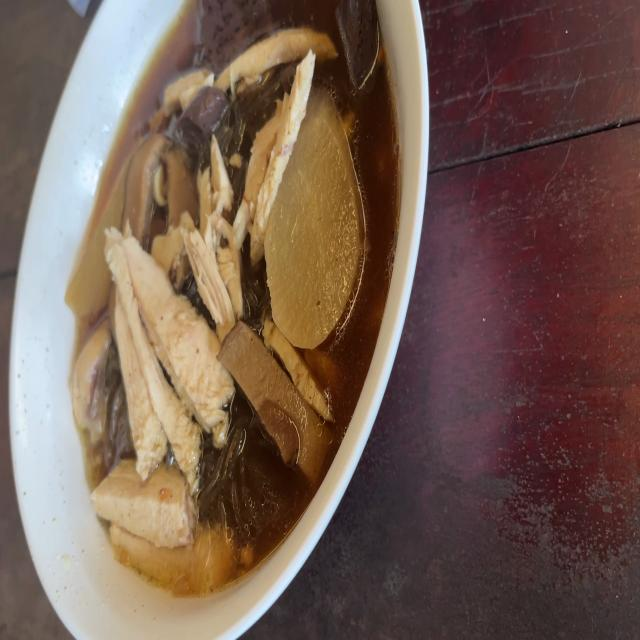boiled_chicken_blood_jelly: (188, 0, 272, 53), (332, 0, 376, 80), (190, 93, 226, 147)
chicken_shredded: (99, 234, 236, 453), (248, 50, 312, 230), (97, 452, 194, 541), (192, 134, 238, 312), (222, 30, 338, 95), (64, 322, 108, 430), (168, 75, 210, 93)
daikon_radish: (272, 130, 358, 344), (69, 145, 129, 309)
noodle: (77, 0, 398, 601)
